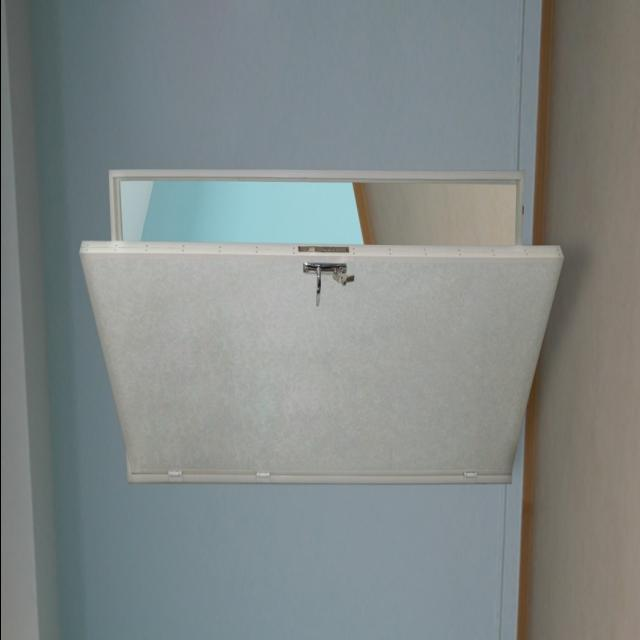open: (127, 157, 557, 486)
